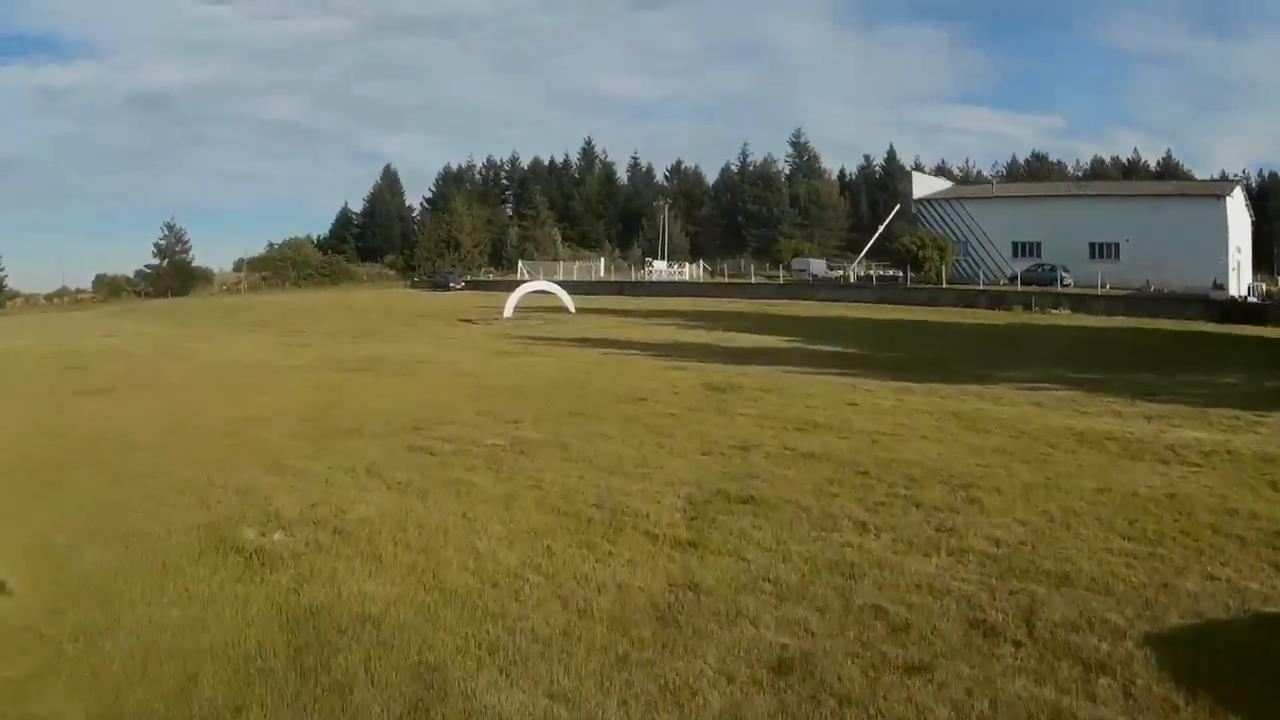gate: (502, 279, 577, 319)
